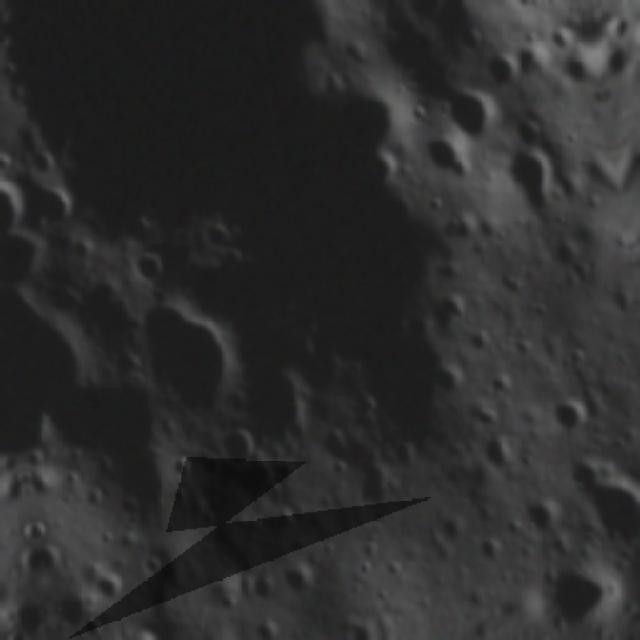crater: (120, 290, 252, 428), (561, 440, 640, 557), (499, 145, 568, 217), (529, 561, 616, 605), (439, 88, 507, 142), (476, 428, 519, 480), (423, 137, 471, 181), (520, 493, 565, 539), (280, 558, 326, 602), (0, 175, 31, 238), (426, 362, 472, 404), (126, 248, 172, 290), (547, 396, 596, 435), (36, 182, 81, 224), (89, 569, 131, 613), (538, 16, 580, 59), (222, 430, 263, 473), (462, 327, 501, 367), (437, 208, 475, 248), (468, 533, 507, 570), (482, 53, 520, 89), (450, 23, 492, 55), (484, 368, 522, 402), (438, 292, 472, 330), (86, 278, 119, 317), (27, 144, 64, 178), (385, 437, 424, 469), (321, 424, 352, 464), (194, 220, 237, 248), (39, 542, 70, 580), (515, 118, 547, 152), (560, 50, 592, 84), (549, 240, 583, 272), (317, 67, 348, 101), (247, 570, 279, 602), (270, 504, 301, 536), (214, 247, 252, 273), (247, 614, 284, 640), (408, 0, 450, 22), (76, 615, 110, 640), (136, 554, 167, 581), (114, 626, 172, 640), (170, 451, 196, 482), (436, 518, 467, 544), (357, 392, 385, 420), (610, 282, 633, 316), (580, 188, 605, 217), (31, 472, 55, 502), (562, 346, 590, 371), (369, 584, 396, 608), (168, 484, 192, 510), (345, 354, 369, 380), (70, 238, 96, 262), (386, 558, 409, 584), (562, 127, 586, 151), (196, 508, 219, 532), (319, 538, 343, 560), (83, 488, 108, 509), (97, 528, 120, 550), (0, 60, 23, 82), (5, 86, 30, 105), (355, 560, 376, 582), (512, 0, 542, 14), (63, 469, 83, 488), (214, 550, 234, 568), (0, 154, 15, 174)
